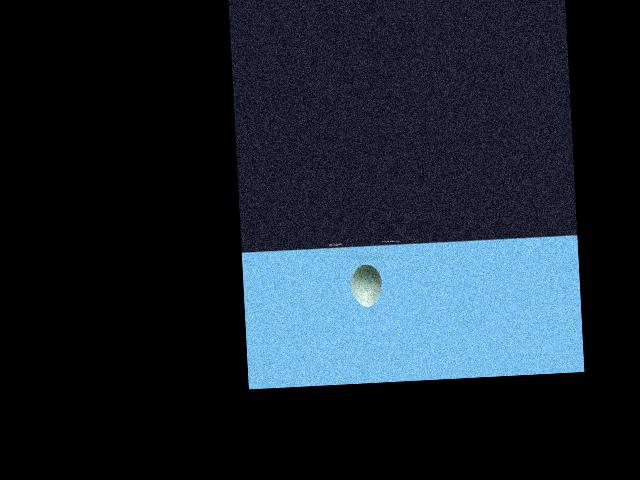egg: (350, 264, 383, 307)
